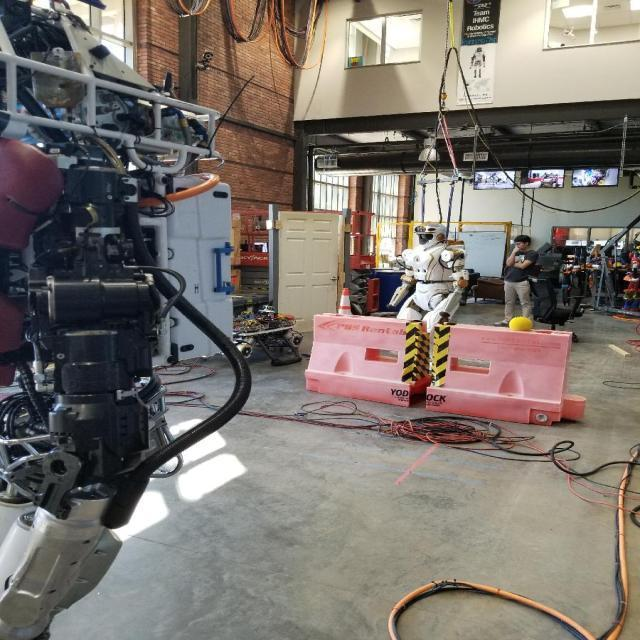door: (276, 209, 341, 342), (325, 276, 338, 284)
